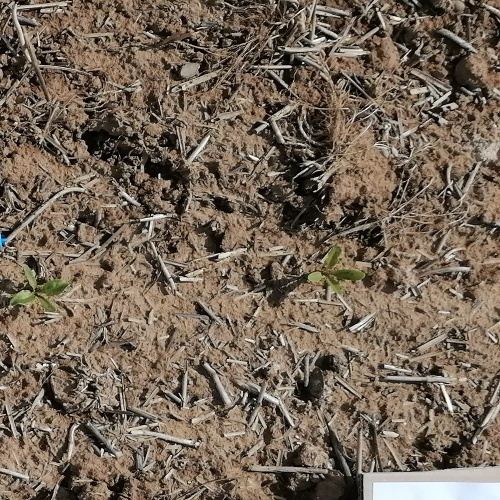beet: (11, 263, 71, 310), (306, 247, 360, 292)
